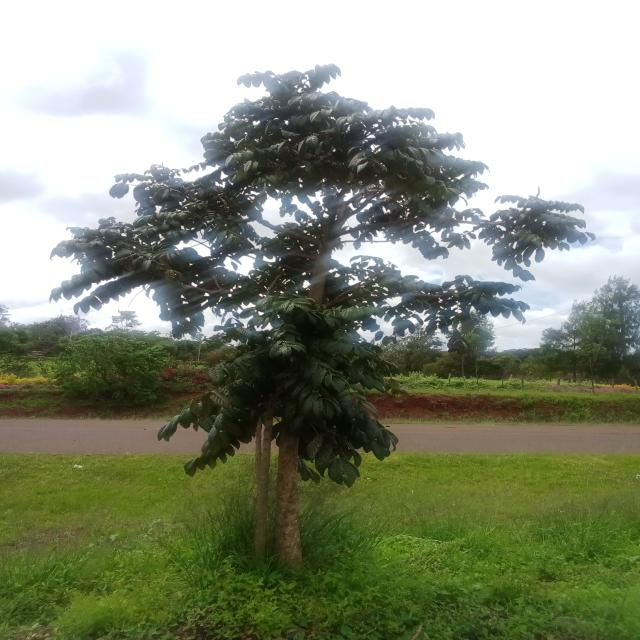Polyscias Kikuyensis: (51, 63, 598, 555)
